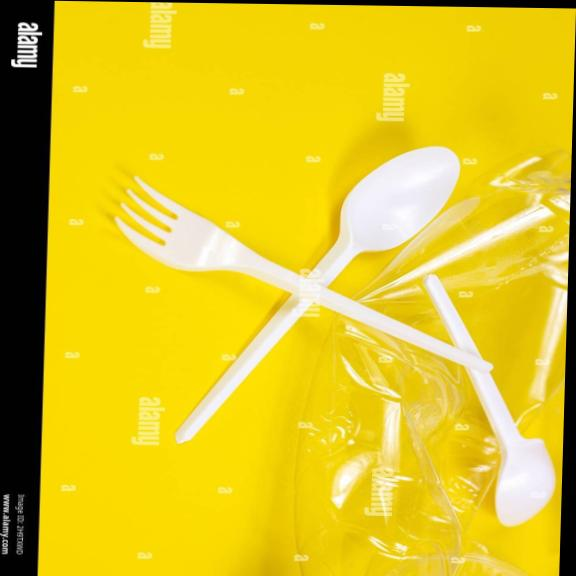Plastik: (115, 178, 302, 294), (307, 147, 458, 285), (466, 370, 554, 526)
